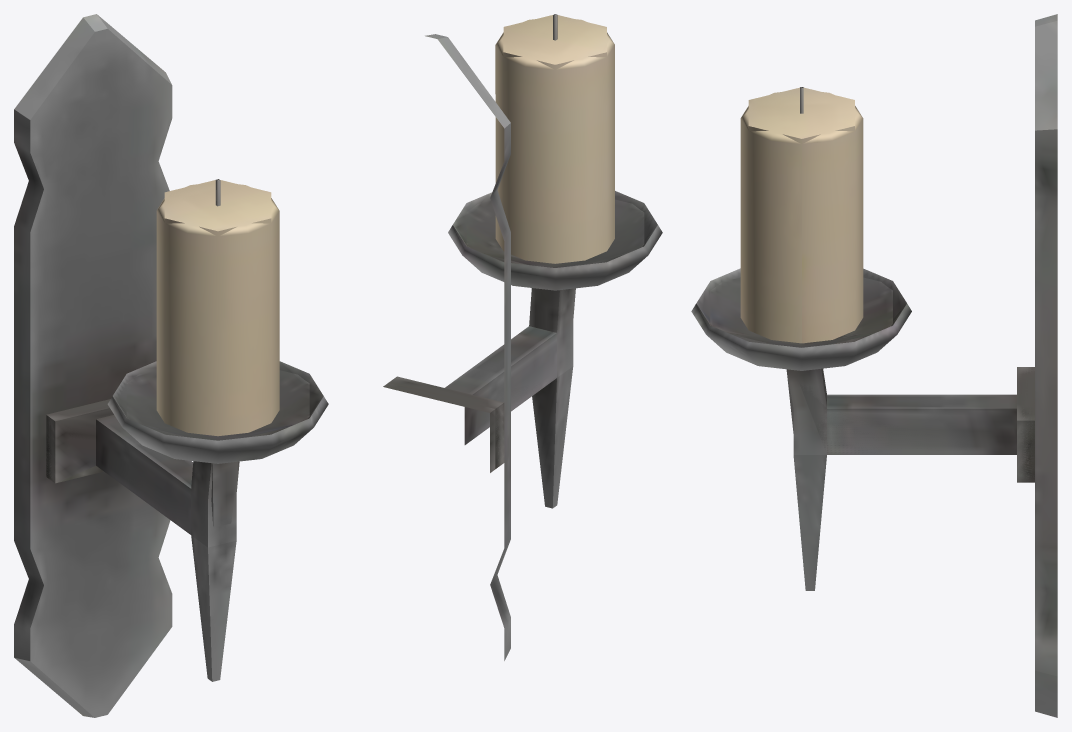
Rendered from WallCandle_Flame.glb.
The picture shows the model from 3 angles, left to right: view 1: azimuth 30°, elevation 25°; view 2: azimuth 150°, elevation 25°; view 3: azimuth 270°, elevation 25°; orthographic projection. The views are drawn at different scales.
Parts seen in each view (by area): view 1: WallCandleA; view 2: WallCandleA; view 3: WallCandleA.
Boxes of the visible parts, bbox=[...] form: WallCandleA: bbox=[14, 14, 328, 717]; WallCandleA: bbox=[383, 14, 662, 660]; WallCandleA: bbox=[691, 14, 1057, 717].
Size of the model in its own units: 0.1658 by 0.5776 by 0.275.
1 material, 1 textured.
